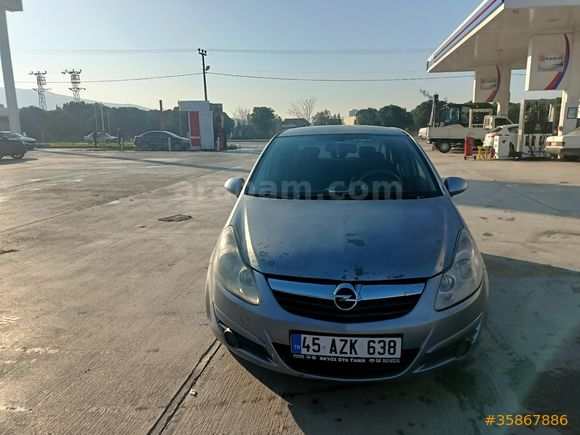plate: (290, 336, 404, 360)
